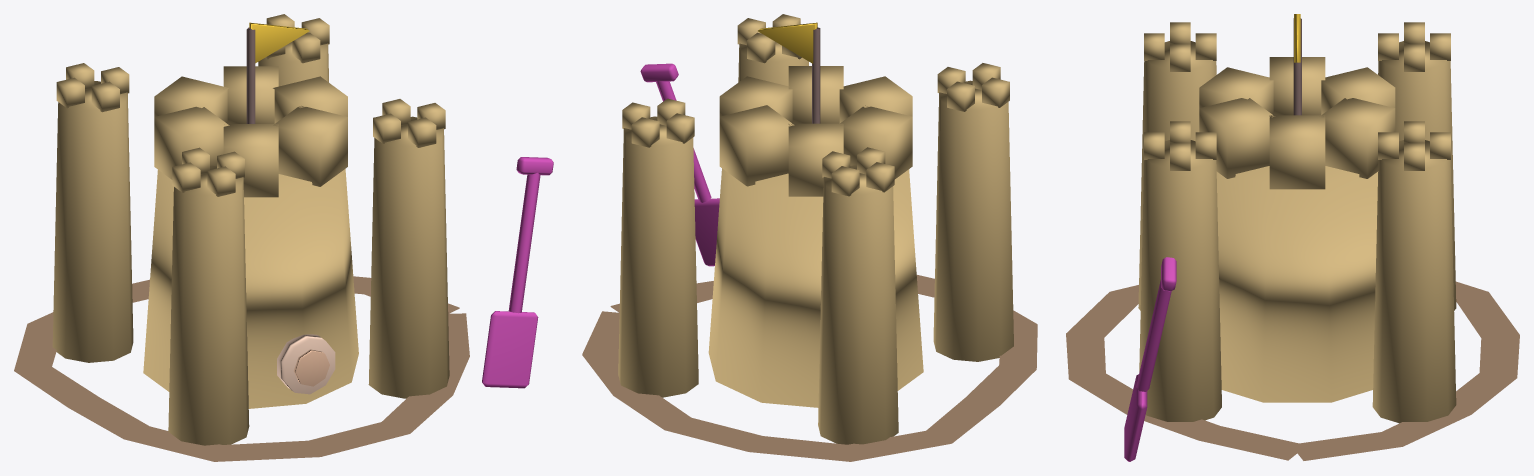
Rendered from sandcastle.glb.
3 renders of one model, left to right at view 1: azimuth 30°, elevation 25°; view 2: azimuth 150°, elevation 25°; view 3: azimuth 270°, elevation 25°, orthographic.
Parts seen in each view (by area): view 1: Castle; view 2: Castle; view 3: Castle.
Part boxes in pixels (box(x1,y1,x2,y2)): Castle: box(14, 14, 553, 461); Castle: box(582, 14, 1037, 461); Castle: box(1066, 14, 1519, 461).
Bounding box in the file's own units: 0.8894 × 0.7007 × 0.814.
